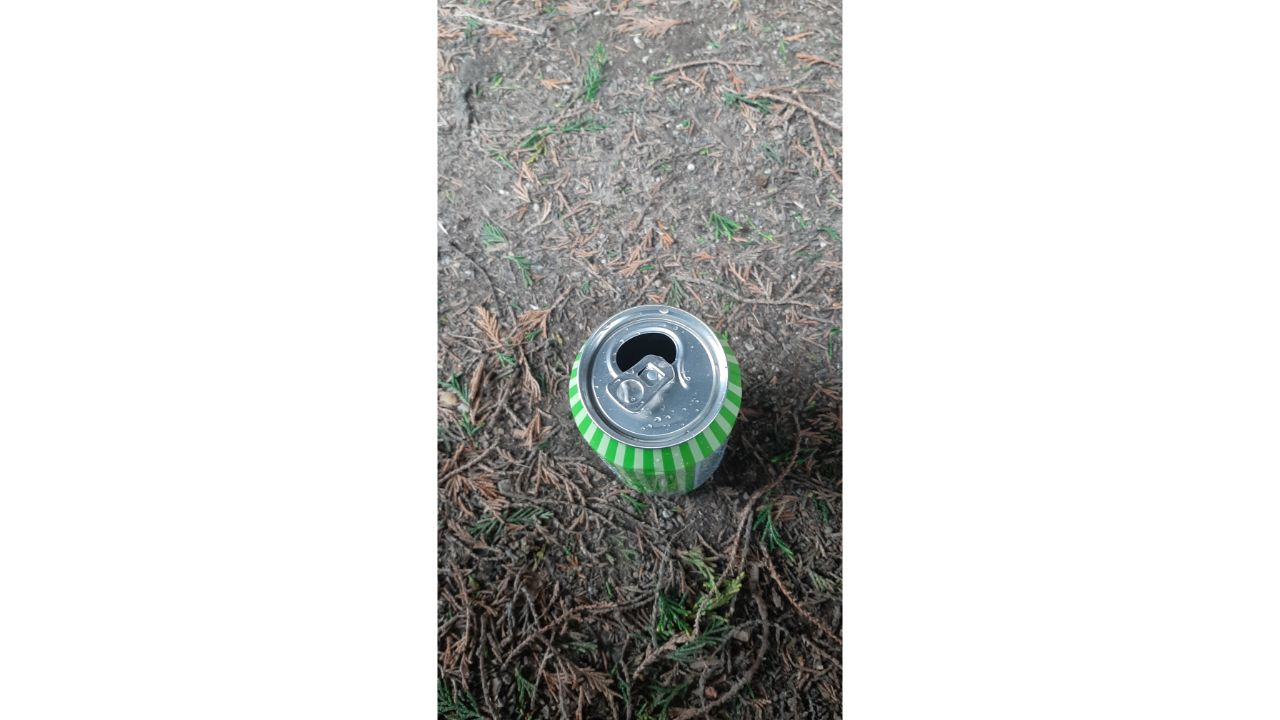Can: (553, 290, 756, 524)
